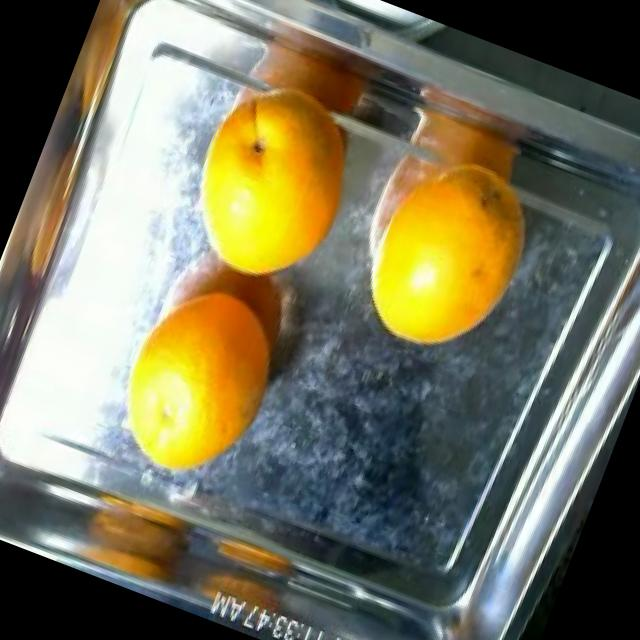Fruit: (83, 260, 310, 516), (337, 162, 546, 384), (59, 488, 208, 606)
